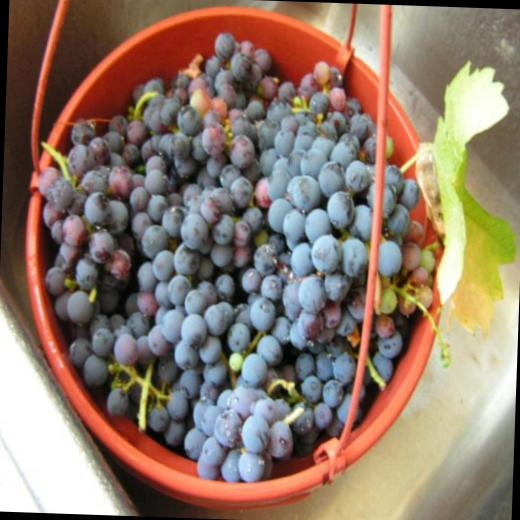Orange: (29, 26, 442, 486)
